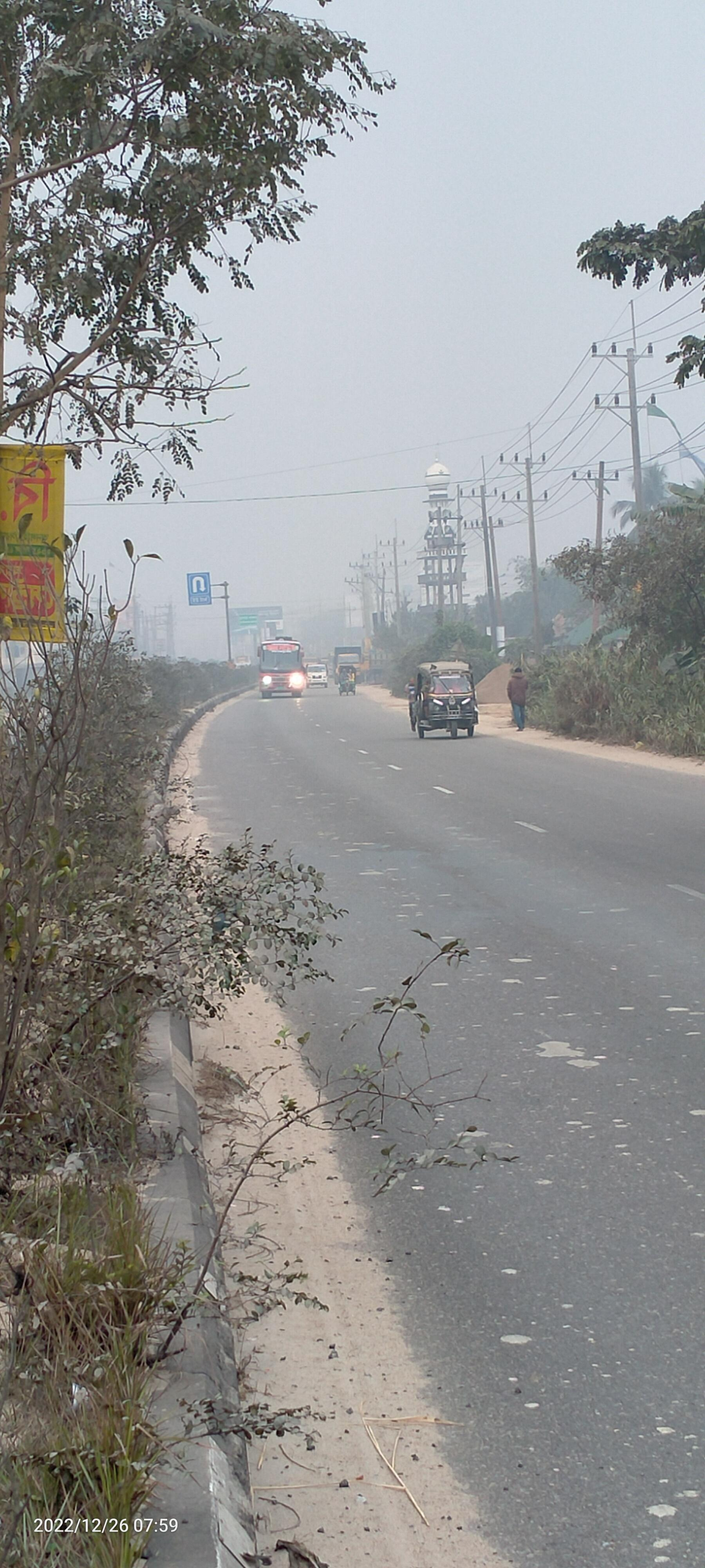Bus: (252, 629, 308, 702)
Car: (336, 664, 358, 698)
Truck: (331, 640, 365, 687), (303, 657, 331, 693)
